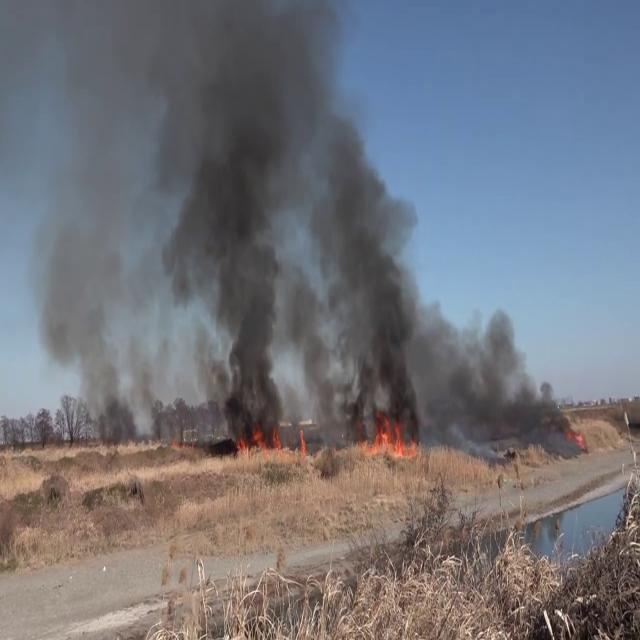Fire: (362, 411, 422, 462)
Smoke: (0, 0, 433, 439), (418, 296, 580, 449)
